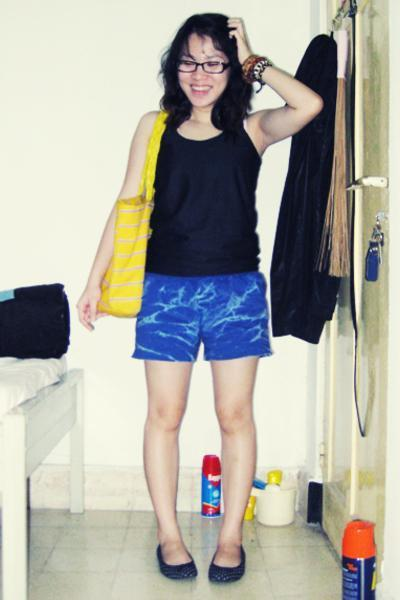bag: (96, 112, 167, 317)
shirt: (145, 120, 262, 276)
shoe: (157, 544, 244, 584)
shorts: (132, 271, 272, 361)
